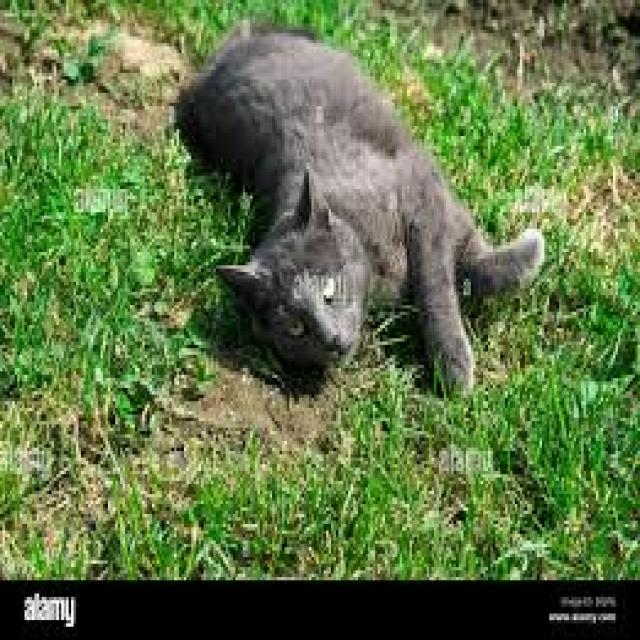Cat: (170, 16, 551, 410)
